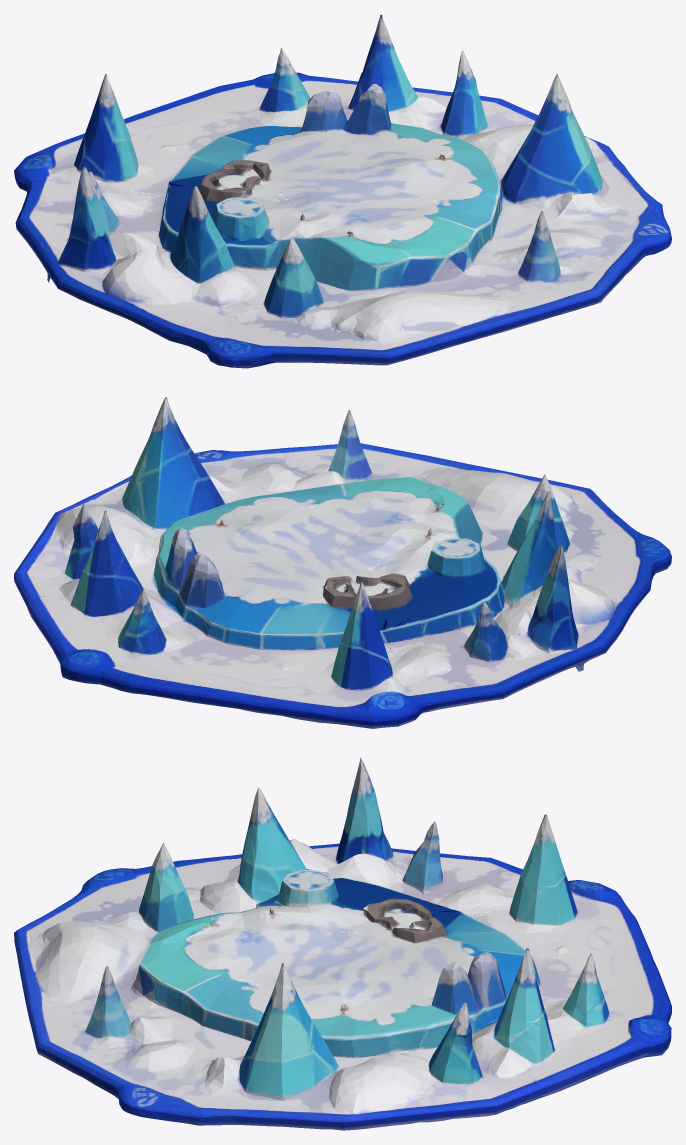
The model's file is snowy_mountain.glb.
3 renders of one model, top to bottom at view 1: azimuth 30°, elevation 25°; view 2: azimuth 150°, elevation 25°; view 3: azimuth 270°, elevation 25°, orthographic. The views are drawn at different scales.
Parts seen in each view (by area): view 1: world.001; view 2: world.001; view 3: world.001.
Part boxes in pixels (x1,y1,x2,y2): world.001: (14, 15, 671, 368); world.001: (14, 397, 671, 728); world.001: (14, 758, 671, 1130).
Bounding box in the file's own units: 0.9985 × 0.2276 × 0.9961.
Materials: 1 (1 with a texture image).
